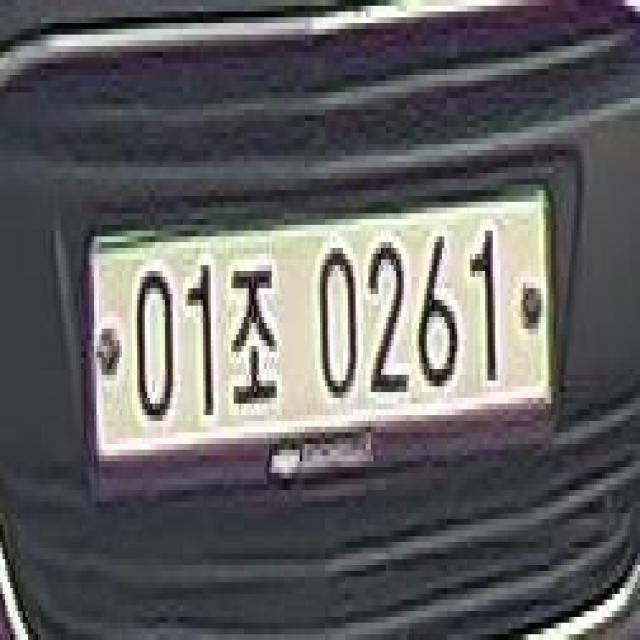illegal_plate: (87, 176, 552, 492)
